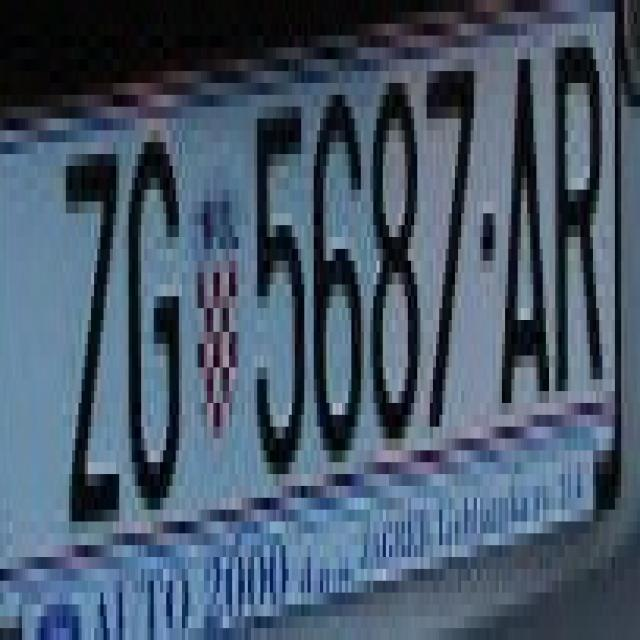5: (254, 82, 304, 462)
6: (314, 82, 364, 462)
7: (417, 59, 474, 427)
8: (370, 71, 417, 427)
A: (489, 24, 549, 415)
G: (122, 118, 182, 510)
Z: (59, 142, 122, 534)
